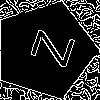Z: (19, 25, 75, 69)
